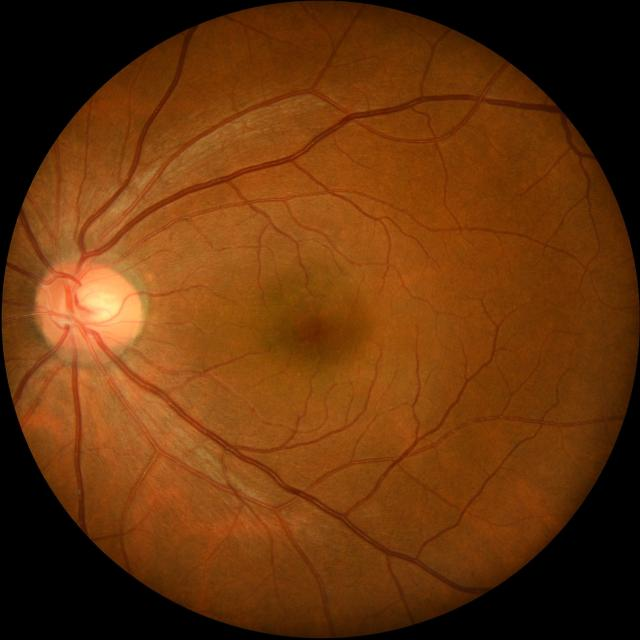OC: (68, 281, 121, 331)
OD: (36, 259, 142, 356)
